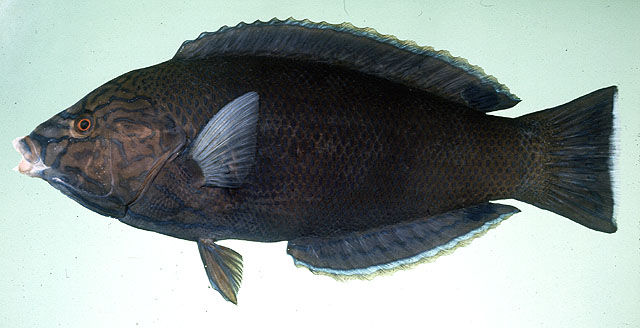fish: (14, 18, 622, 306)
